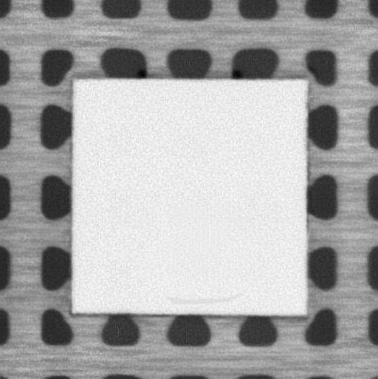DIE_CRACK: (164, 293, 246, 305)
